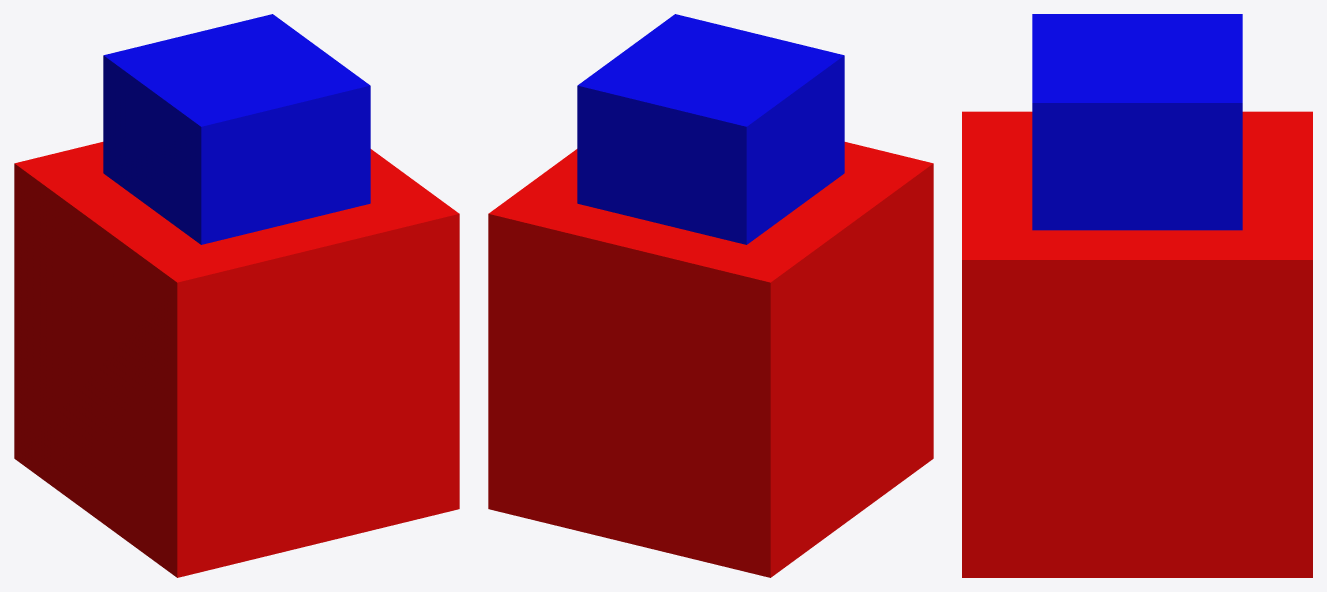
File: texture_fixture.obj
The picture shows the model from 3 angles, left to right: view 1: azimuth 30°, elevation 25°; view 2: azimuth 150°, elevation 25°; view 3: azimuth 270°, elevation 25°; orthographic projection. The views are drawn at different scales.
Bounding box in the file's own units: 2 × 2.8 × 2.
Materials: 1 (1 with a texture image).
